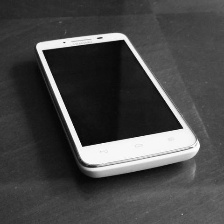phone: (32, 27, 204, 184)
